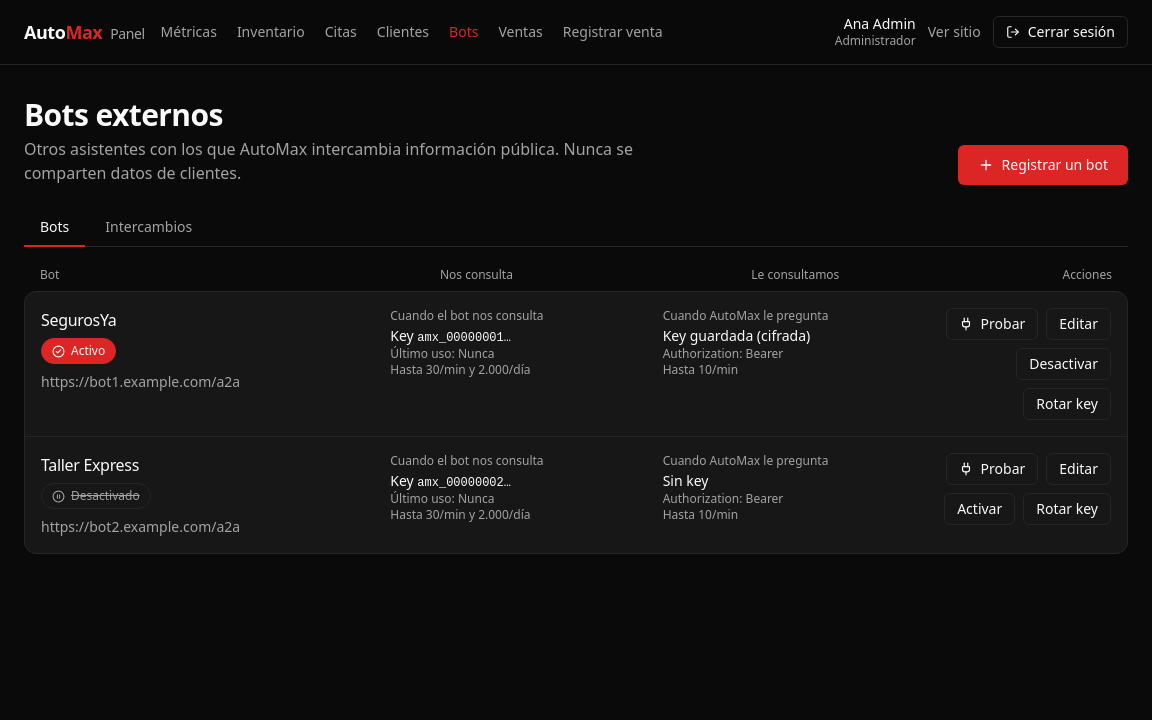
Test: registrar un bot › envía el cuerpo esperado, muestra la key UNA vez y después ya no está en pantalla
The width and height of the screenshot is (1152, 720).
Click the button "Registrar un bot" at (1043, 165), box 958,145 -> 1128,185
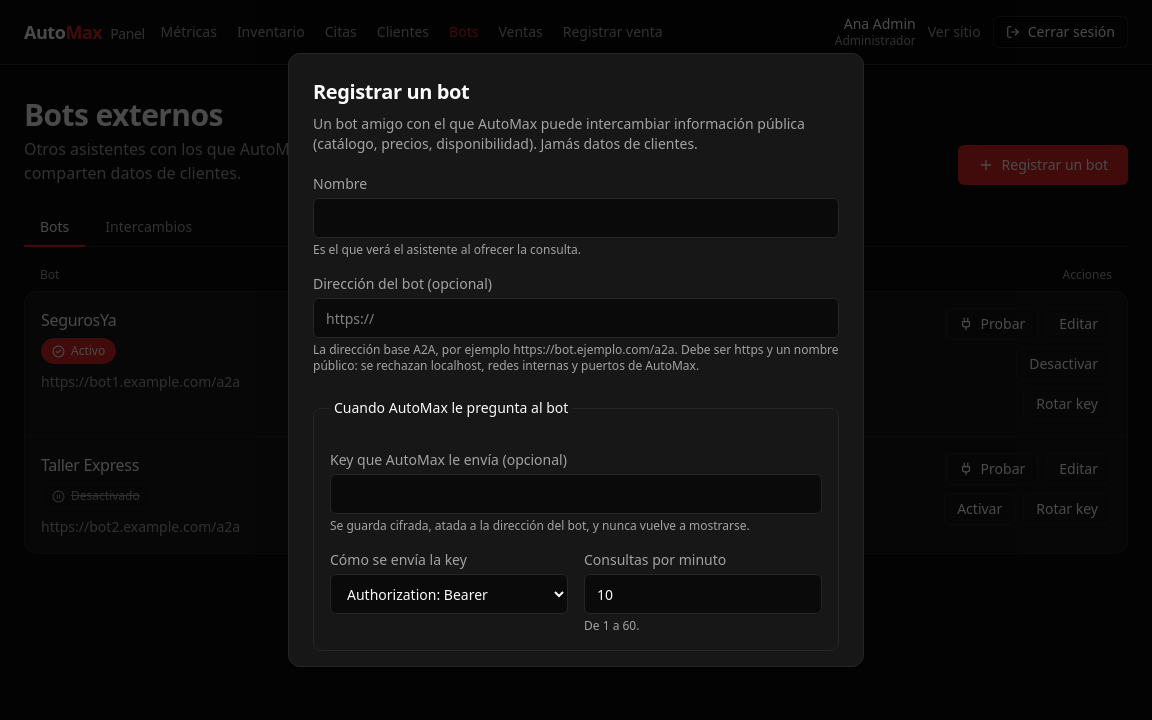
Type "Bot Nuevo" into the field labelled "Nombre" at (576, 218), box 313,198 -> 839,238
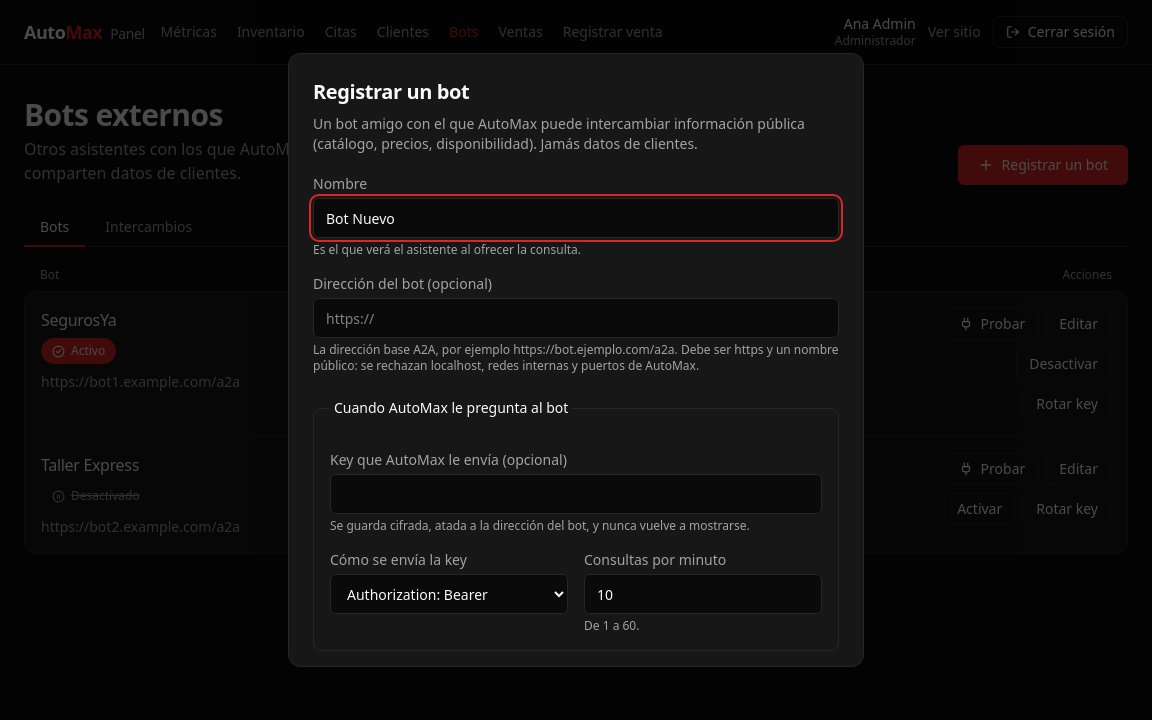
Type "https://nuevo.example.com/a2a" into the field labelled "Dirección del bot (opcional)" at (576, 318), box 313,298 -> 839,338
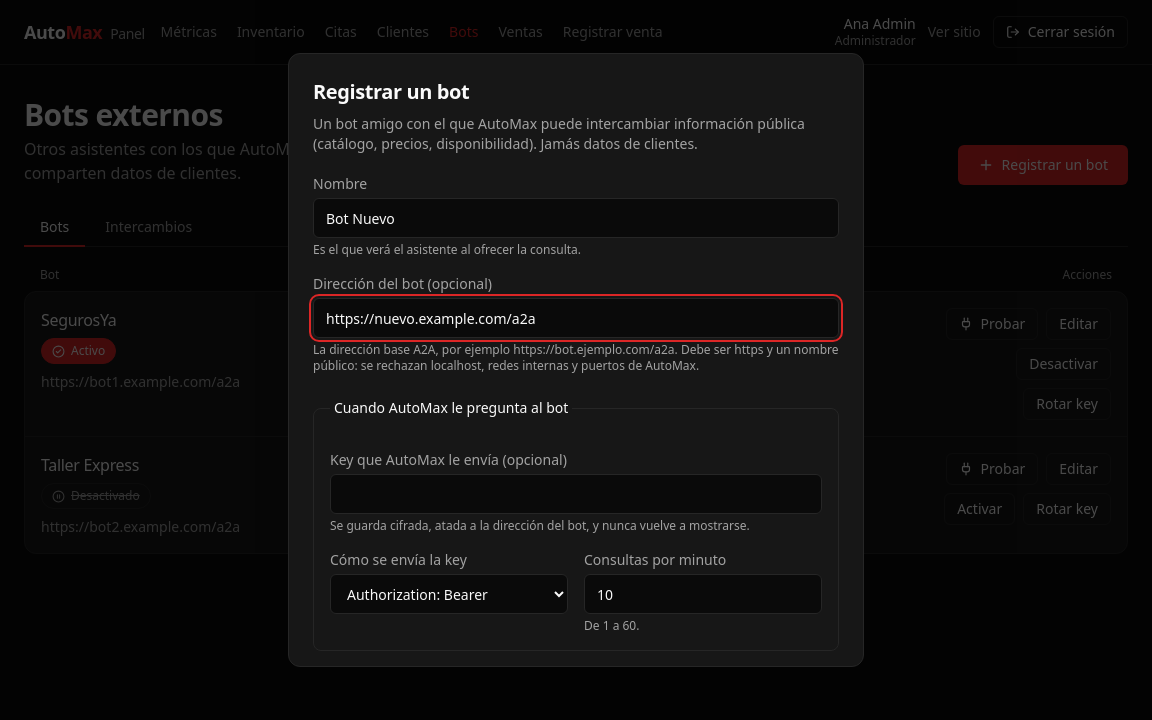
Type "clave-saliente-123" into the password field labelled "Key que AutoMax le envía (opcional)" at (576, 494), box 330,474 -> 822,514
(page scrolled)
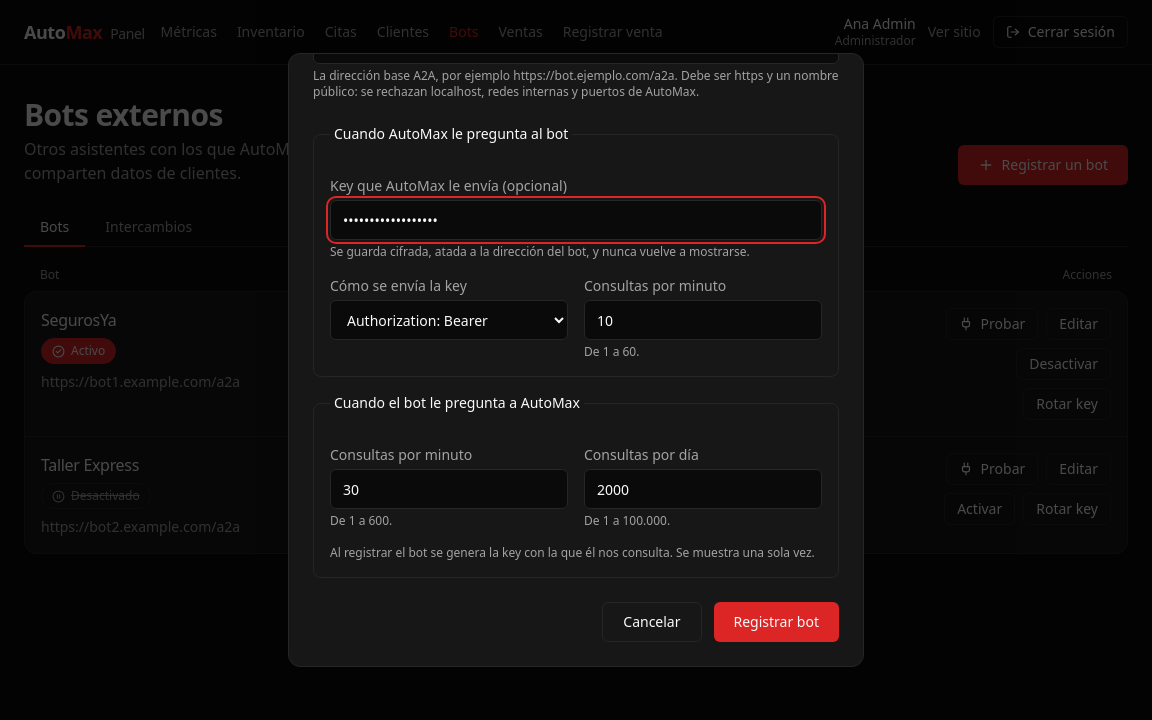
Click the button "Registrar bot" at (776, 622), box 714,602 -> 839,642
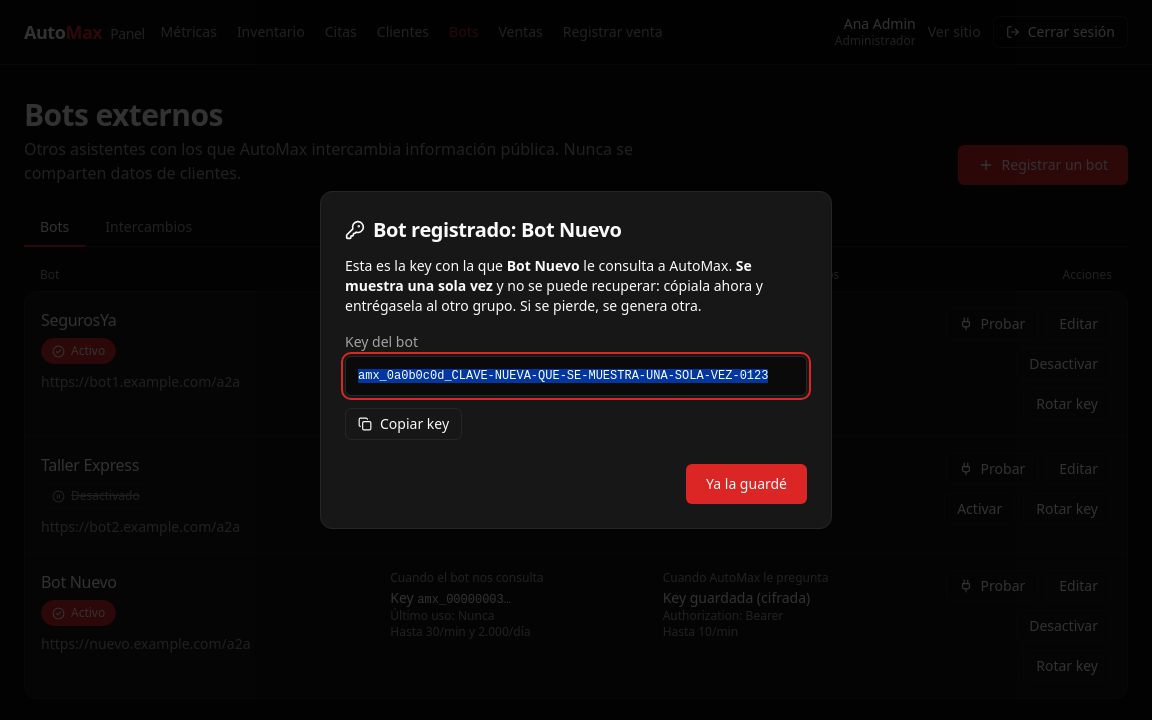
Expected: the text "Se muestra una sola vez" is shown, 345,256 -> 752,295
Expected: the field labelled "Key del bot" holds "amx_0a0b0c0d_CLAVE-NUEVA-QUE-SE-MUESTRA-UNA-SOLA-VEZ-0123", 345,356 -> 807,396
Expected: the number of list items is 3, 25,292 -> 1127,437; 25,437 -> 1127,554; 25,554 -> 1127,698
Click the button "Ya la guardé" at (746, 484), box 686,464 -> 807,504
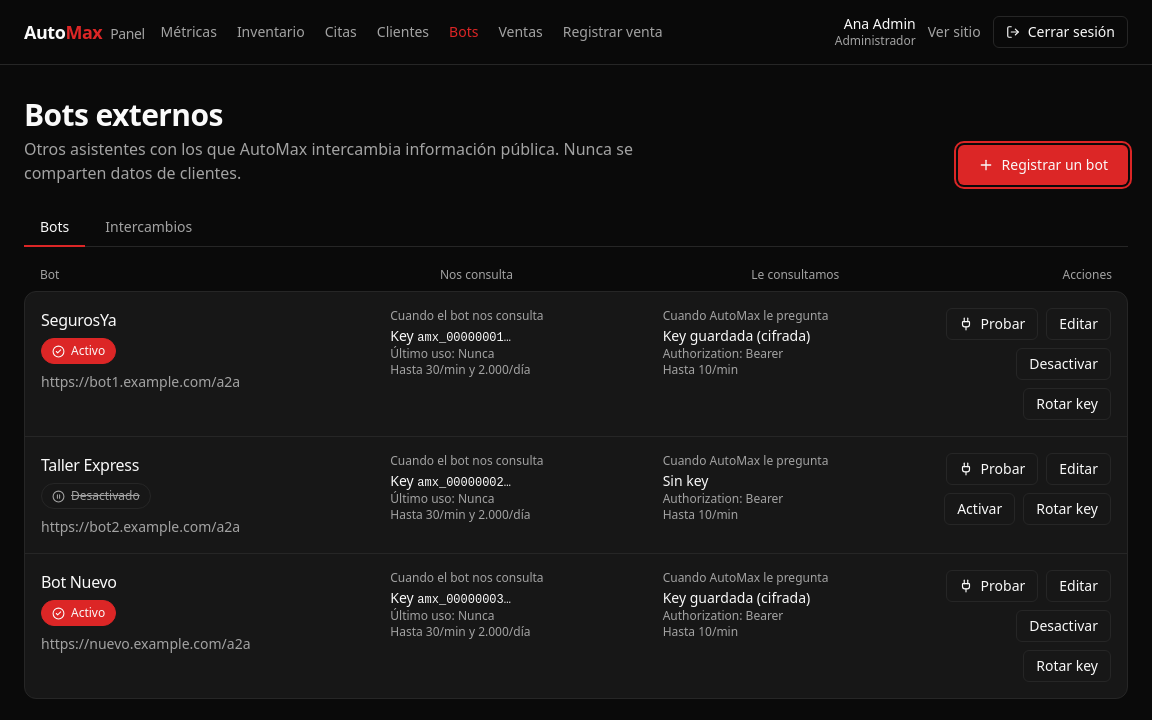
Expected: the text "amx_0a0b0c0d_CLAVE-NUEVA-QUE-SE-MUESTRA-UNA-SOLA-VEZ-0123" is not shown
Expected: the label labelled "Key del bot" is gone
